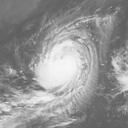cyclone: (34, 38, 94, 94)
